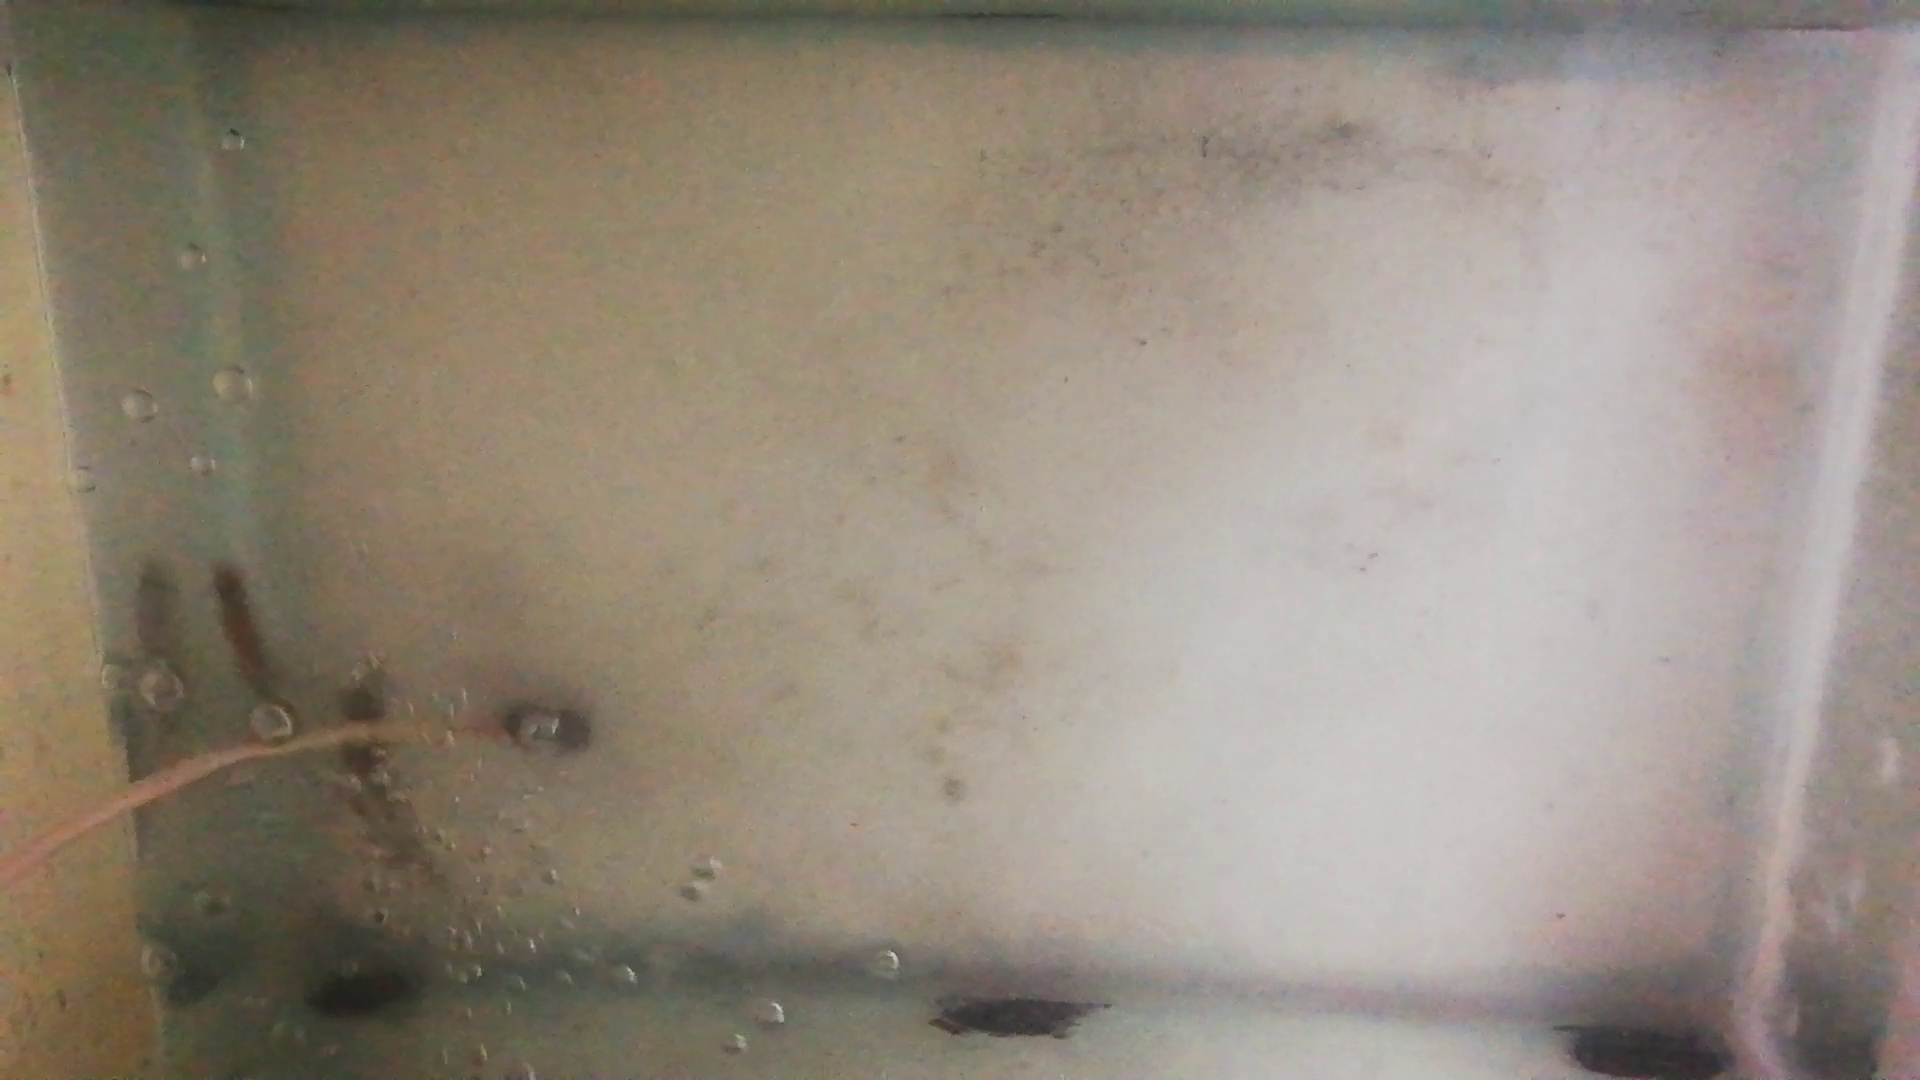fish: (342, 666, 430, 866), (208, 554, 281, 728)
